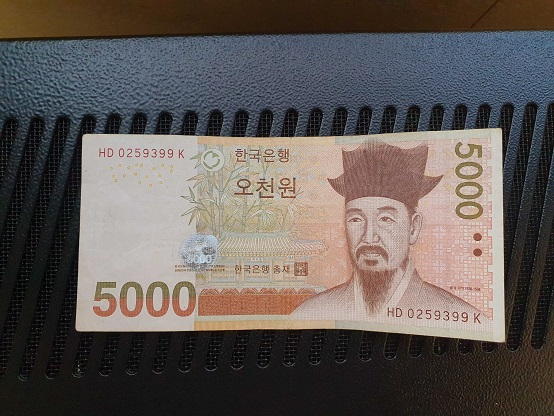5000won: (74, 125, 505, 344)
